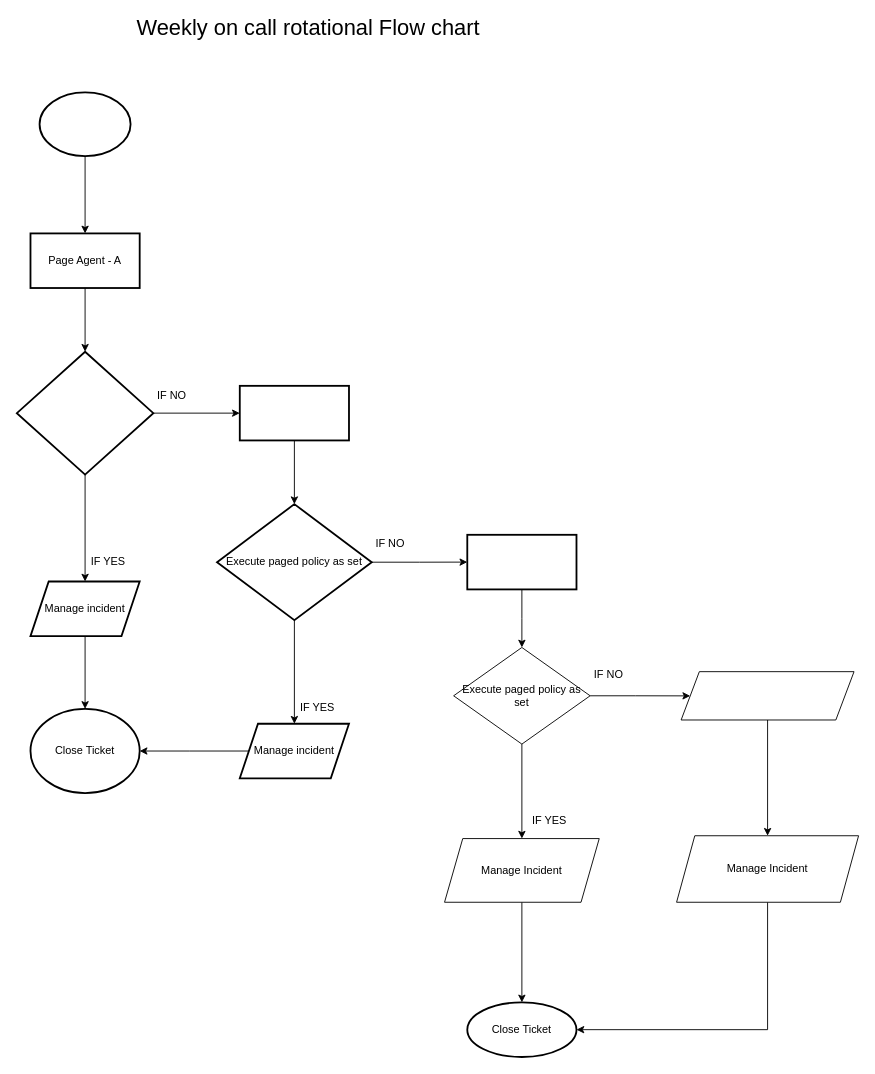
This 875x1074 diagram has some shape labels left out. Each missing label, with the box of its shape:
Execute page policy as set: (15, 350, 154, 475)
Incident Alert: (38, 91, 131, 157)
Page Agent - C: (466, 533, 577, 590)
Page Management: (680, 671, 854, 720)
Then page Agent - B: (238, 384, 349, 441)
